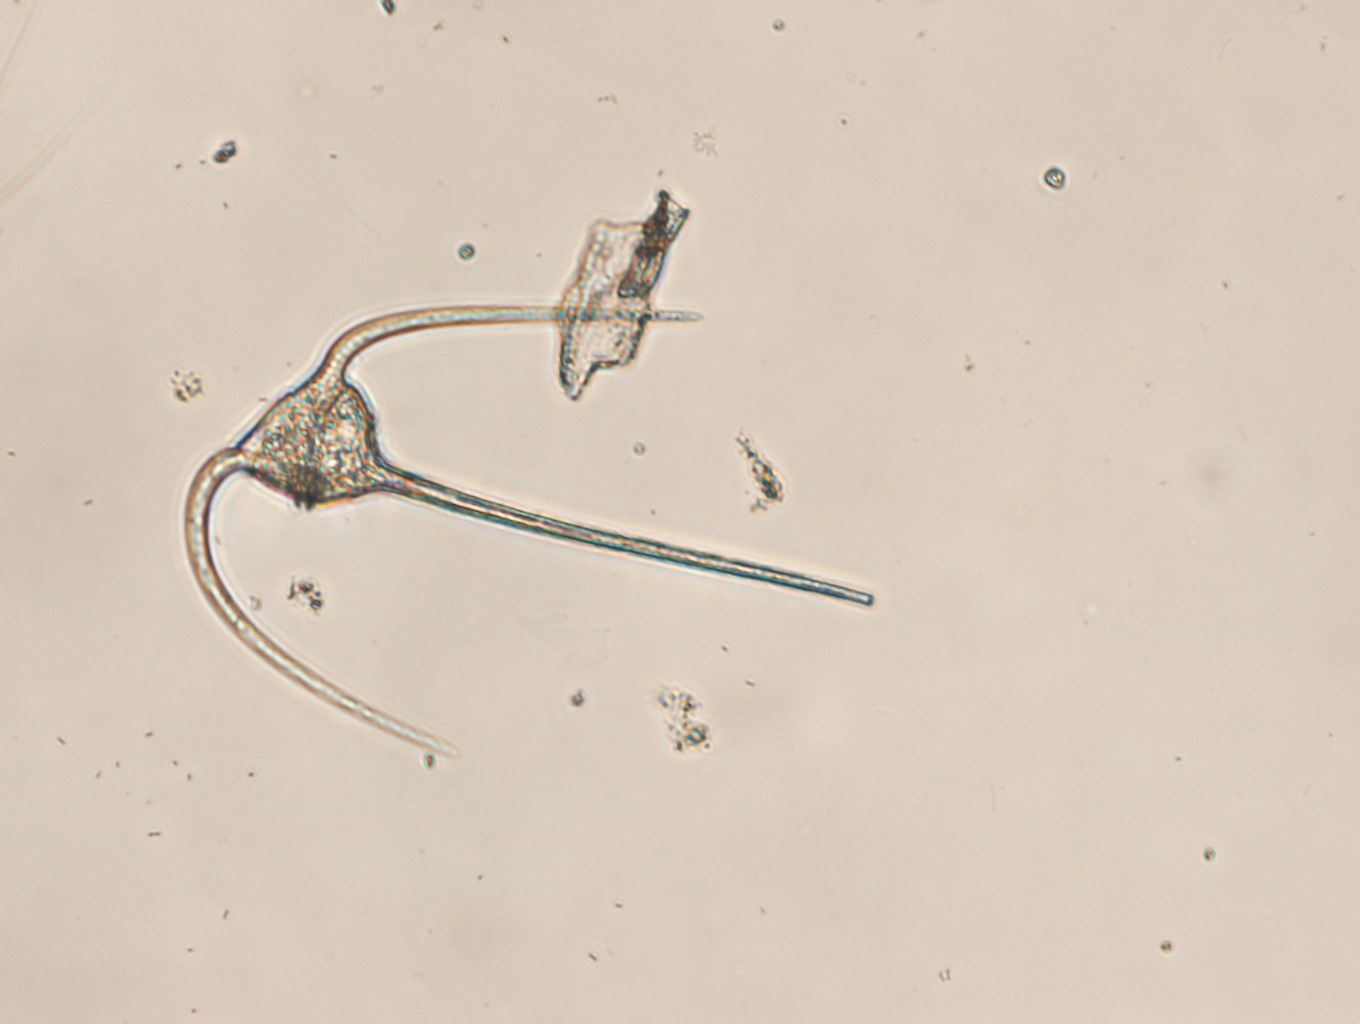ceratium trichoceros: (181, 303, 874, 755)
